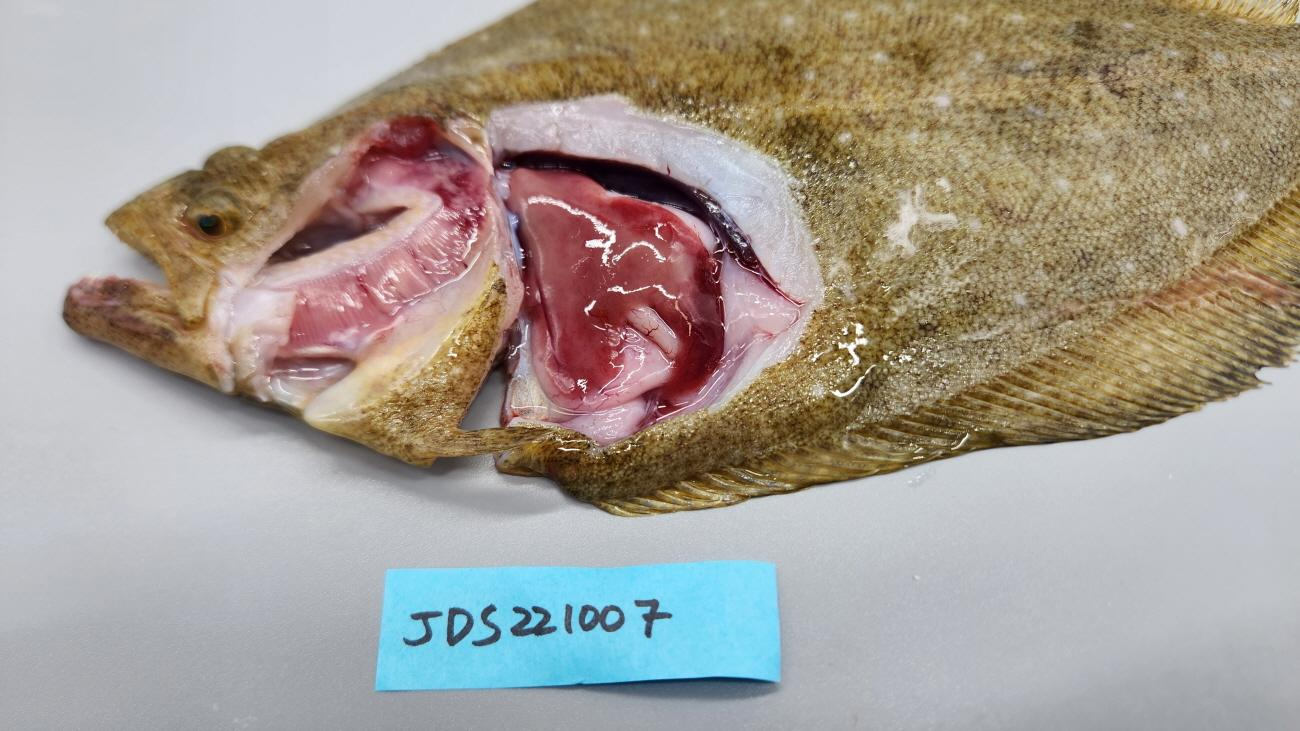VILIC: (516, 170, 710, 403)
